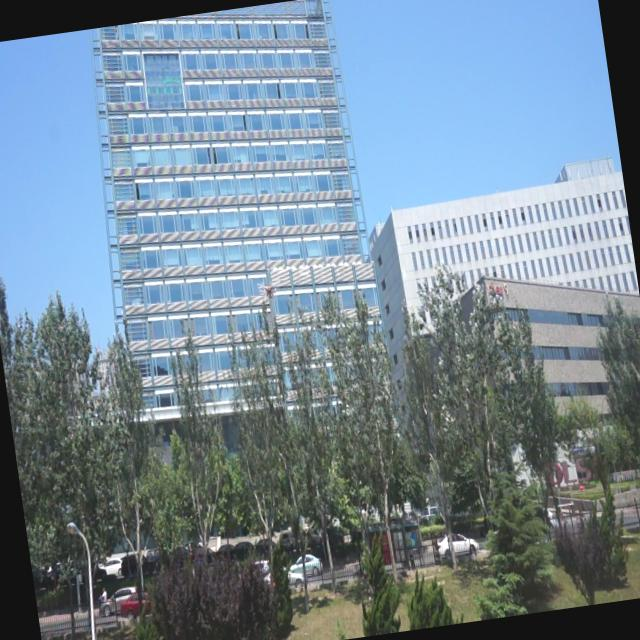drone: (256, 278, 281, 304)
